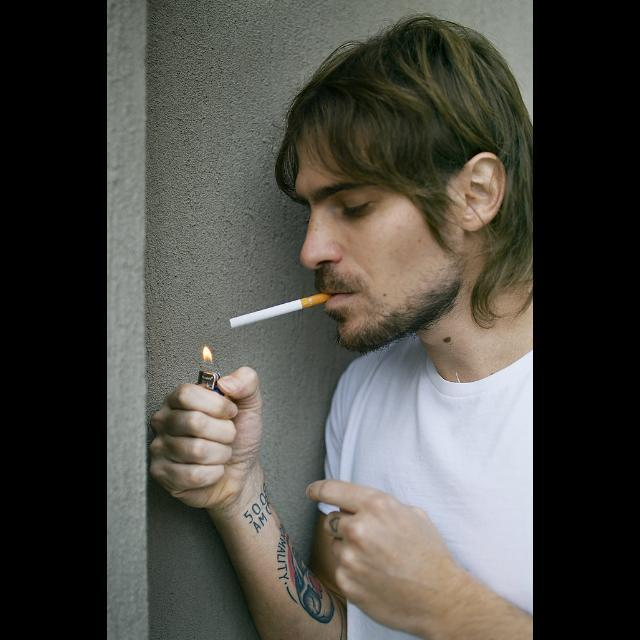rokok: (227, 292, 331, 332)
